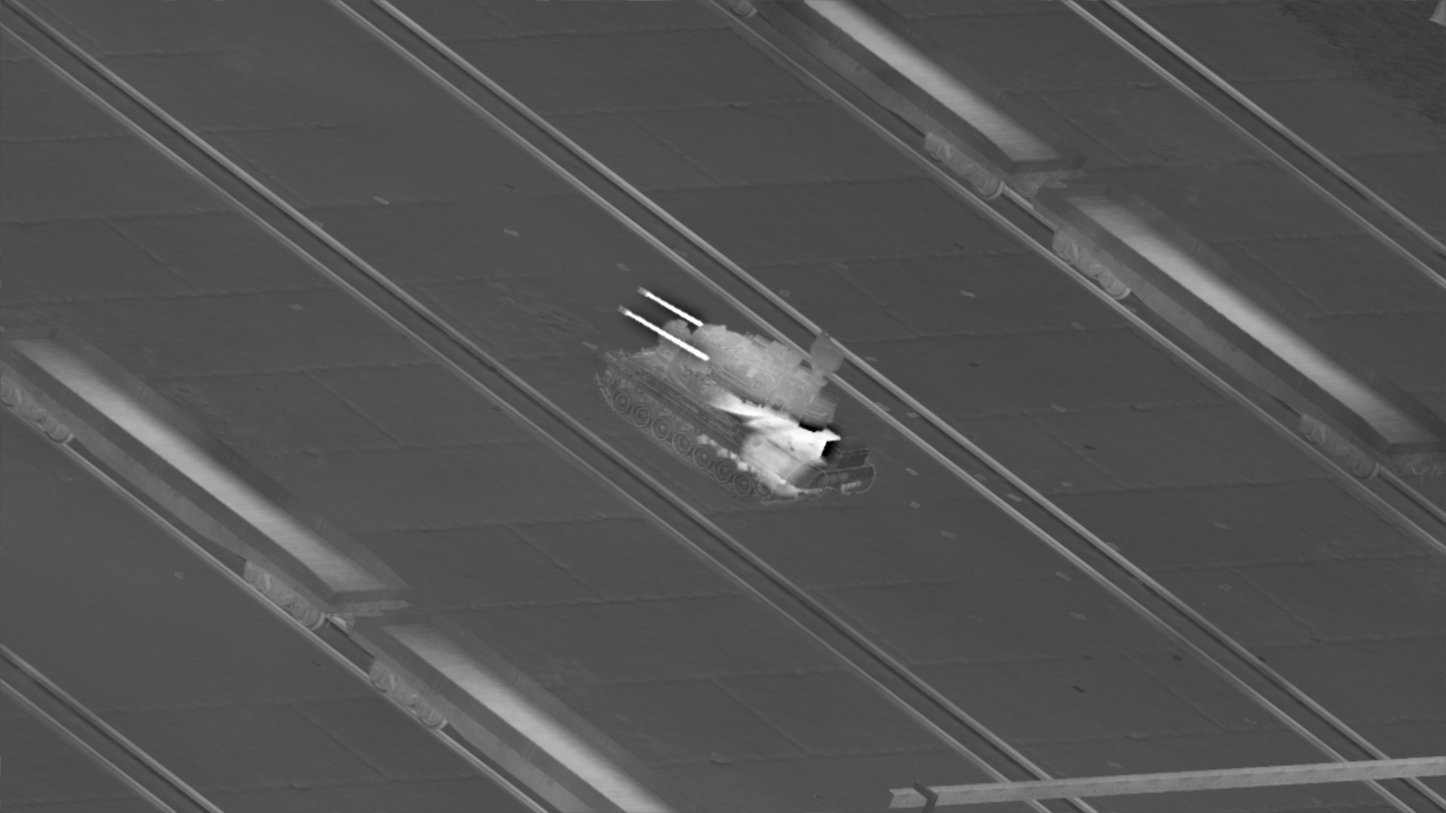spaa_gepard: (587, 288, 876, 506)
